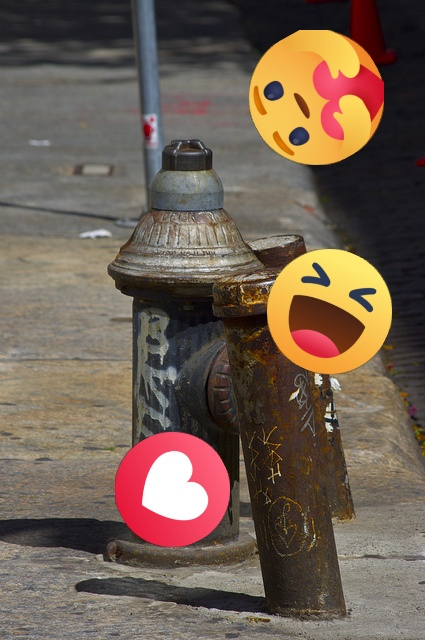care: (249, 30, 384, 165)
haha: (267, 249, 392, 374)
love: (115, 432, 230, 547)
